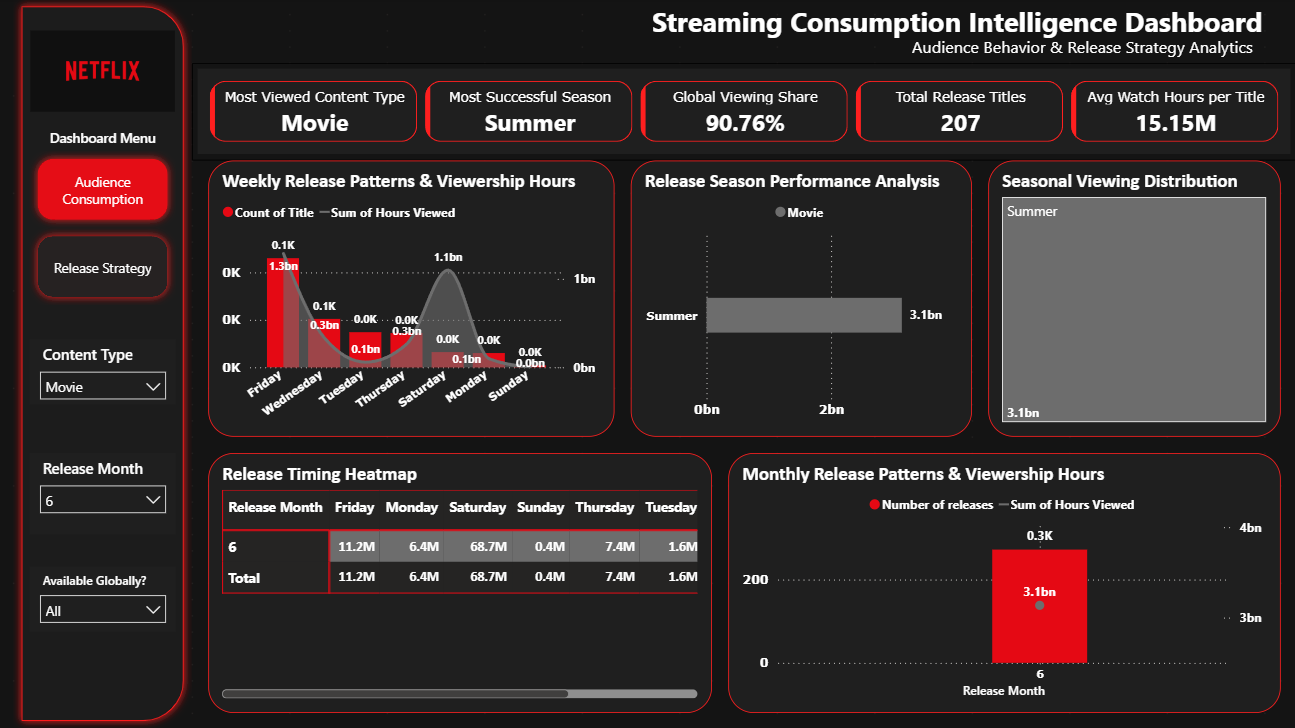

The dashboard page shown, as its layout file describes it:
{"tool":"powerbi","page":{"name":"Release Strategy ","canvas":[1280,720],"ordinal":1},"visuals":[{"type":"shape","box":[16,0,176,720],"z":0},{"type":"pivotTable","title":"Release Timing Heatmap","fields":{"Values":["Avg(streaming_consumption_intelligence.Hours Viewed)"],"Rows":["streaming_consumption_intelligence.Release Month"],"Columns":["streaming_consumption_intelligence.Release Day"]},"box":[208,448,496,256],"z":1000},{"type":"cardVisual","fields":{"Data":["streaming_consumption_intelligence.Most Viewed Content Type","streaming_consumption_intelligence.Most Successful Season","streaming_consumption_intelligence.Global Viewing Share","streaming_consumption_intelligence.Best Release Day","streaming_consumption_intelligence.Avg Watch Hours per Title"]},"box":[192,64,1088,96],"z":3000},{"type":"slicer","fields":{"Values":["streaming_consumption_intelligence.Available Globally?"]},"box":[32,560,144,64],"z":6000},{"type":"pageNavigator","title":"Dashboard Menu","box":[32,128,144,176],"z":7000},{"type":"textbox","box":[640,0,624,48],"z":8000},{"type":"textbox","box":[896,32,368,32],"z":9000},{"type":"image","box":[32,32,144,80],"z":10000},{"type":"clusteredBarChart","title":"Release Season Performance Analysis","fields":{"Y":["Sum(streaming_consumption_intelligence.Hours Viewed)"],"Category":["streaming_consumption_intelligence.Release Season"],"Series":["streaming_consumption_intelligence.Content Type"]},"box":[624,160,336,272],"z":11000},{"type":"treemap","title":"Seasonal Viewing Distribution","fields":{"Values":["Sum(streaming_consumption_intelligence.Hours Viewed)"],"Group":["streaming_consumption_intelligence.Release Season"]},"box":[976,160,288,272],"z":12000},{"type":"slicer","fields":{"Values":["streaming_consumption_intelligence.Release Month"]},"box":[32,448,144,80],"z":13000},{"type":"slicer","fields":{"Values":["streaming_consumption_intelligence.Content Type"]},"box":[32,336,144,64],"z":14000},{"type":"lineClusteredColumnComboChart","title":"Monthly Release Patterns & Viewership Hours","fields":{"Y2":["Sum(streaming_consumption_intelligence.Hours Viewed)"],"Category":["streaming_consumption_intelligence.Release Month"],"Y":["CountNonNull(streaming_consumption_intelligence.Title)"]},"box":[720,448,544,256],"z":15000},{"type":"lineClusteredColumnComboChart","title":"Weekly Release Patterns & Viewership Hours","fields":{"Category":["streaming_consumption_intelligence.Release Day"],"Y":["CountNonNull(streaming_consumption_intelligence.Title)"],"Y2":["Sum(streaming_consumption_intelligence.Hours Viewed)"]},"box":[208,160,400,272],"z":16000}]}

Visuals, with their boxes in screenshot pixels (x1, y1, x2, y2), scaled from the page's 1280x720 canvas onto the 1295x728 screenshot:
shape: pyautogui.locateOnScreen(16, 0, 194, 727)
"Release Timing Heatmap" pivotTable: pyautogui.locateOnScreen(210, 453, 712, 712)
cardVisual - streaming_consumption_intelligence.Most Viewed Content Type x streaming_consumption_intelligence.Most Successful Season: pyautogui.locateOnScreen(194, 65, 1294, 162)
slicer - streaming_consumption_intelligence.Available Globally?: pyautogui.locateOnScreen(32, 566, 178, 631)
"Dashboard Menu" pageNavigator: pyautogui.locateOnScreen(32, 129, 178, 307)
textbox: pyautogui.locateOnScreen(648, 0, 1279, 49)
textbox: pyautogui.locateOnScreen(906, 32, 1279, 65)
image: pyautogui.locateOnScreen(32, 32, 178, 113)
"Release Season Performance Analysis" clusteredBarChart: pyautogui.locateOnScreen(631, 162, 971, 437)
"Seasonal Viewing Distribution" treemap: pyautogui.locateOnScreen(987, 162, 1279, 437)
slicer - streaming_consumption_intelligence.Release Month: pyautogui.locateOnScreen(32, 453, 178, 534)
slicer - streaming_consumption_intelligence.Content Type: pyautogui.locateOnScreen(32, 340, 178, 404)
"Monthly Release Patterns & Viewership Hours" lineClusteredColumnComboChart: pyautogui.locateOnScreen(728, 453, 1279, 712)
"Weekly Release Patterns & Viewership Hours" lineClusteredColumnComboChart: pyautogui.locateOnScreen(210, 162, 615, 437)
